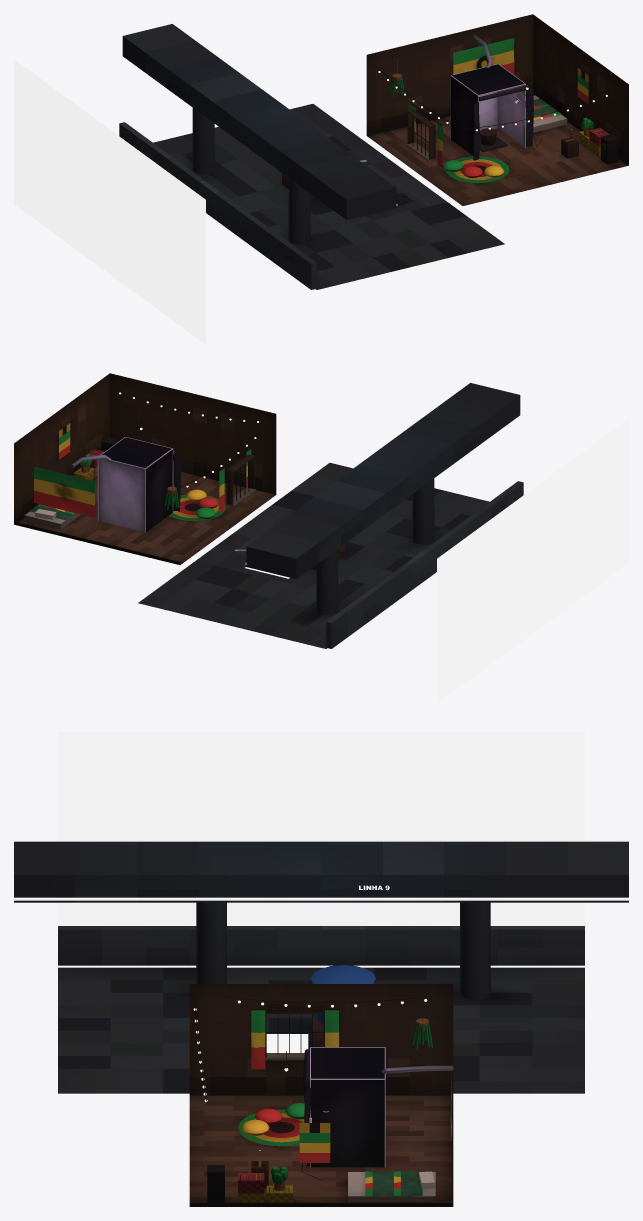
File: escondido.glb
3 renders of one model, top to bottom at view 1: azimuth 30°, elevation 25°; view 2: azimuth 150°, elevation 25°; view 3: azimuth 270°, elevation 25°, orthographic. The views are drawn at different scales.
Visible parts, largest first — view 1: sala_solido, sala_luz; view 2: sala_solido, sala_luz; view 3: sala_solido, sala_luz, sala_neon, sala_vidro.
Part boxes in pixels (x1,y1,x2,y2): sala_solido: (119,14,628,289); sala_luz: (14,59,607,344); sala_solido: (14,373,523,648); sala_luz: (119,392,628,703); sala_solido: (14,841,628,1206); sala_luz: (58,732,584,1150); sala_neon: (14,897,628,900); sala_vidro: (266,1034,308,1052).
Bounding box in the file's own units: 17 × 5 × 14.
